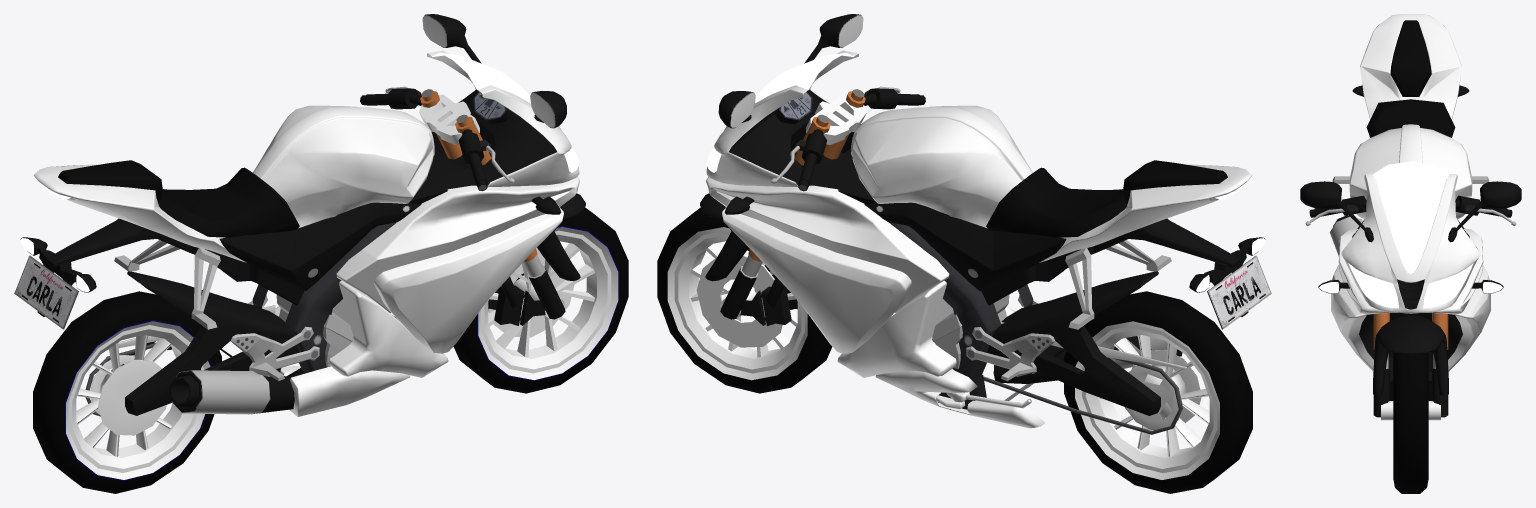
File: vehicle_motorcycle_yamaha_yzf.glb
3 renders of one model, left to right at view 1: azimuth 30°, elevation 25°; view 2: azimuth 150°, elevation 25°; view 3: azimuth 270°, elevation 25°, orthographic. The views are drawn at different scales.
Parts seen in each view (by area): view 1: body, wheel_r, wheel_f, handlebar; view 2: body, wheel_r, wheel_f, handlebar; view 3: body, handlebar, wheel_f.
Part boxes in pixels (x1,y1,x2,y2): body: (14,14,579,416); wheel_r: (33,291,221,493); wheel_f: (453,207,628,393); handlebar: (360,86,585,325); body: (706,14,1271,434); wheel_r: (1064,291,1252,493); wheel_f: (657,207,832,393); handlebar: (700,86,925,326); body: (1300,14,1521,372); handlebar: (1305,195,1516,420); wheel_f: (1393,352,1428,493).
Size of the model in its own units: 2.21 by 1.25 by 0.867.
Materials: 4 (2 with a texture image).
